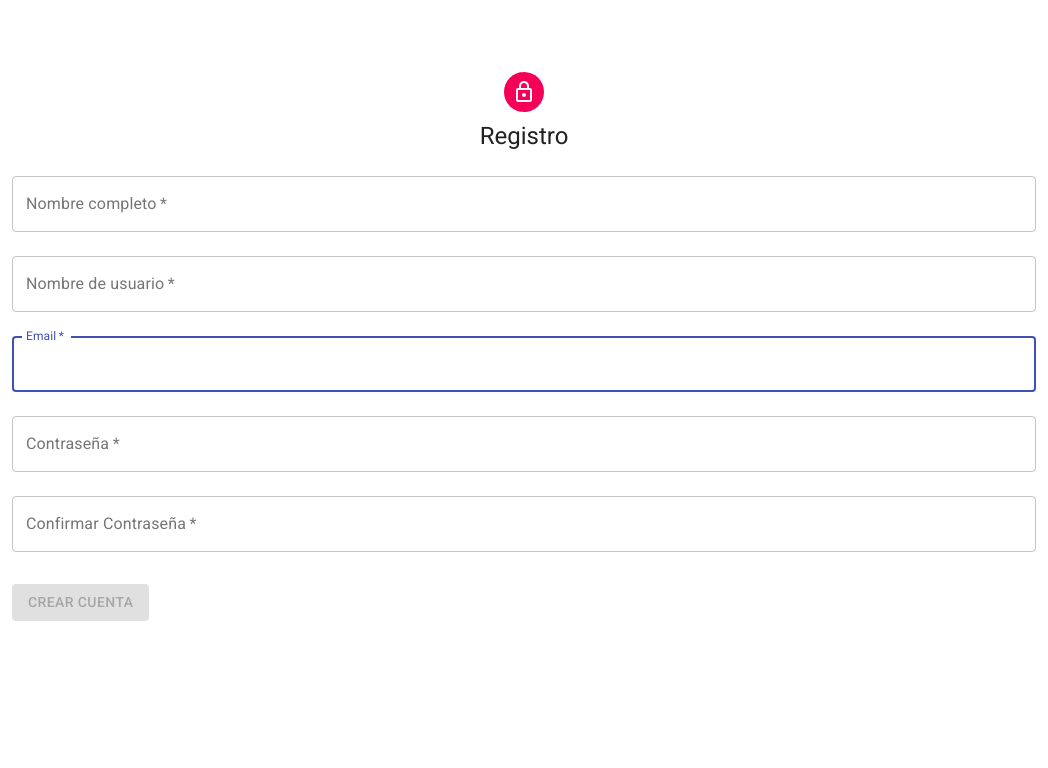
SignUp test › When submitting sign up form › should show password are not the same message if passwords mismatch
The image size is (1048, 768).
Type "Full name" into the field with test id "signup-fullNameField" at (524,204), box [12,176,1036,232]
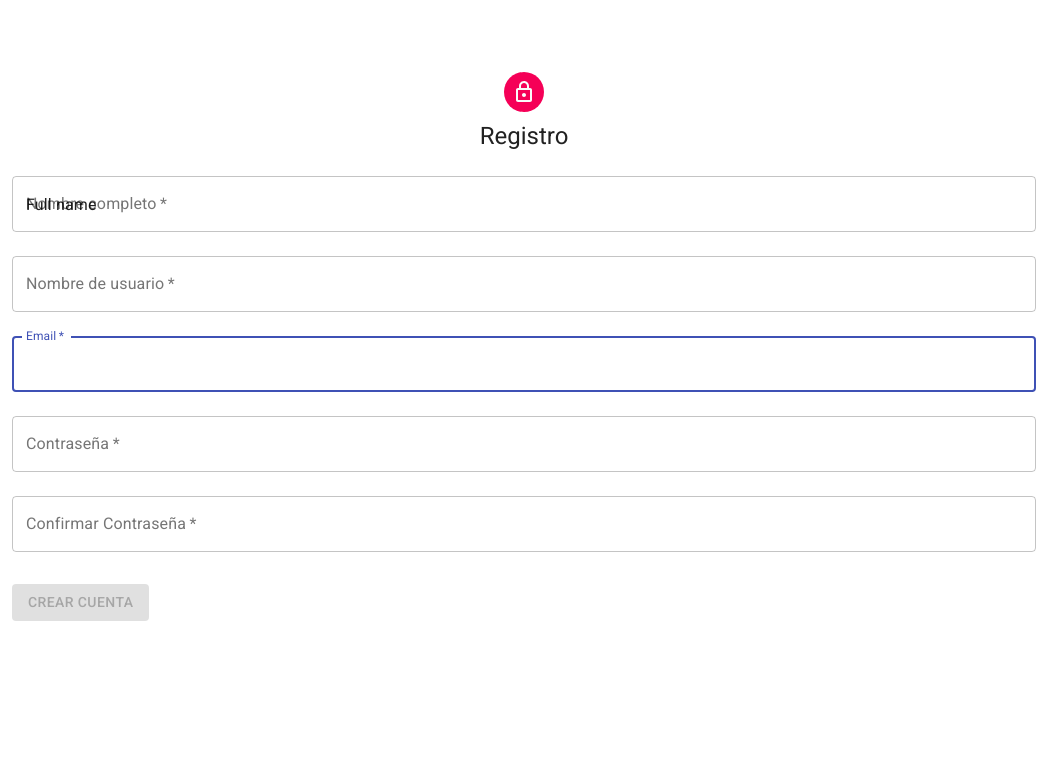
Type "username" into the field with test id "signup-usernameField" at (524,284), box [12,256,1036,312]
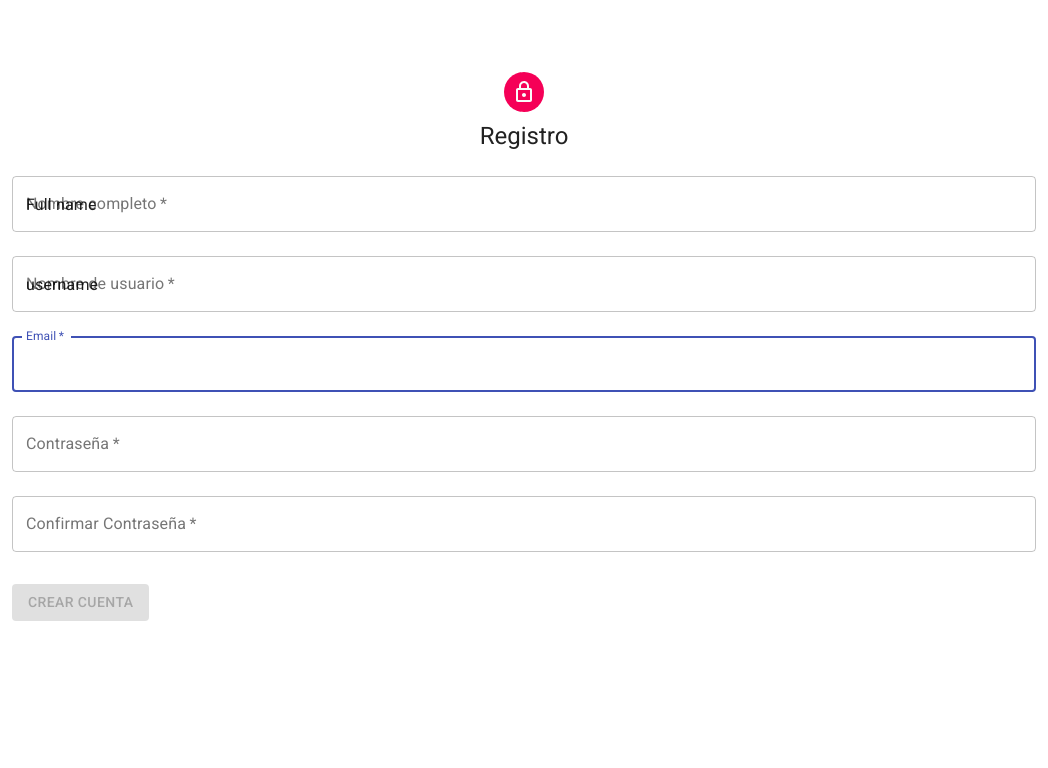
Type "mockEmail@test.com" into the field with test id "signup-emailField" at (524,364), box [12,336,1036,392]
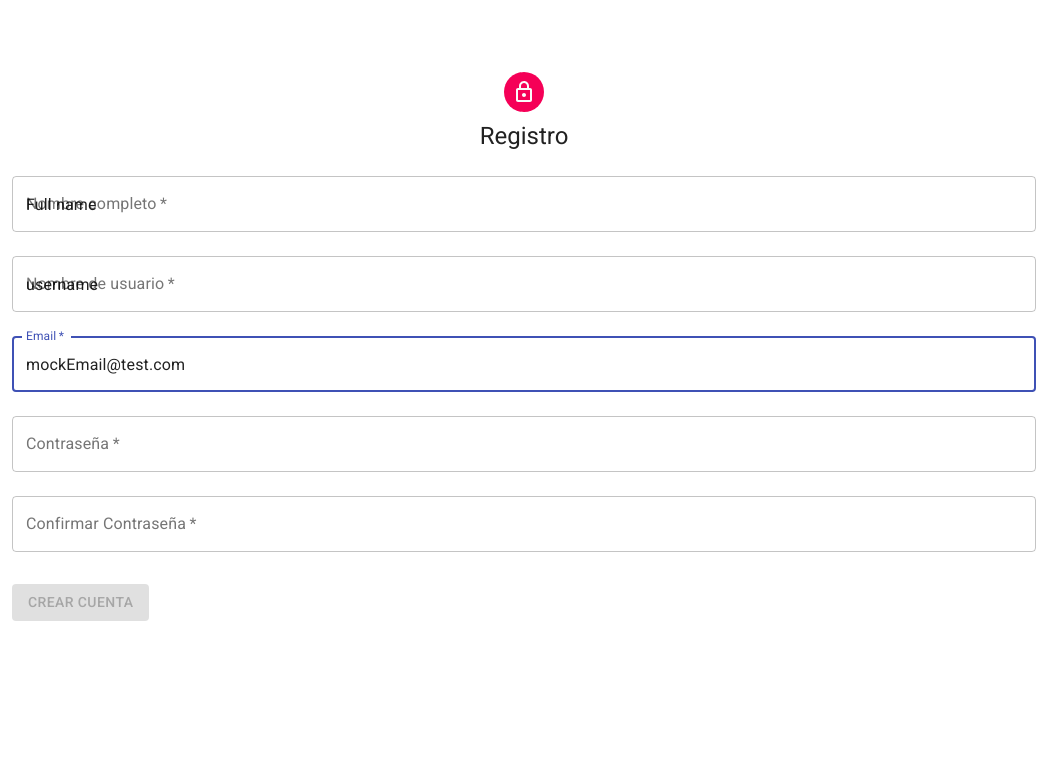
Type "pass1" into the password field with test id "signup-passwordField" at (524,444), box [12,416,1036,472]
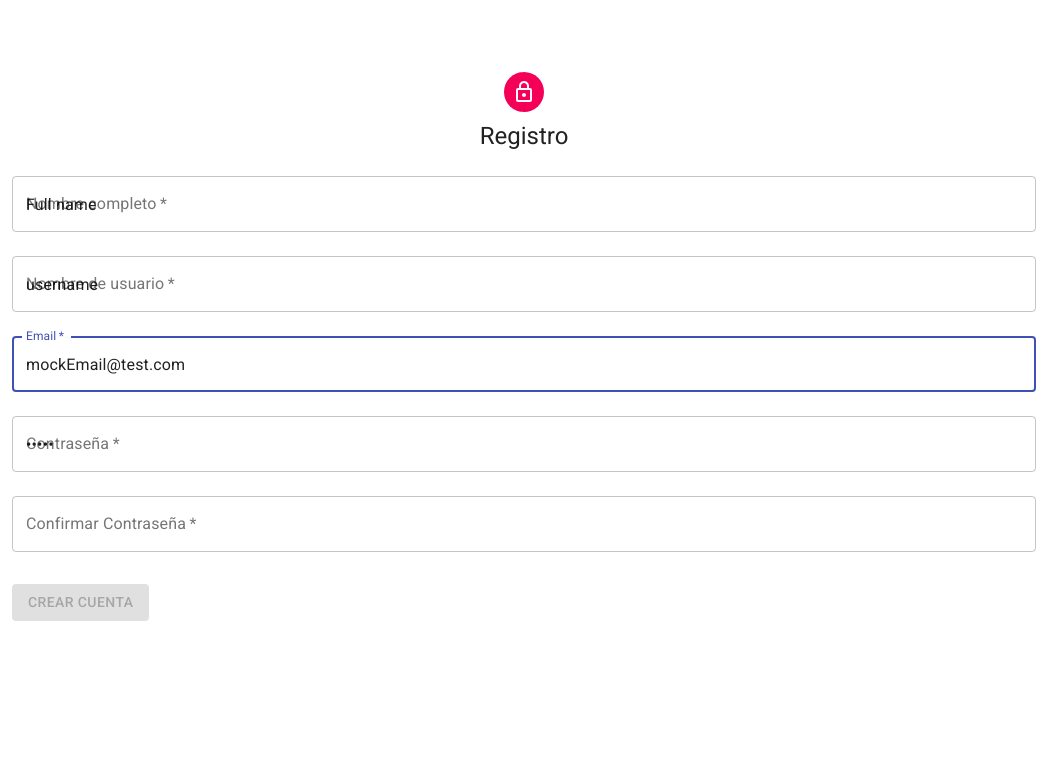
Type "pass2" into the password field with test id "signup-repeatPasswordField" at (524,524), box [12,496,1036,552]
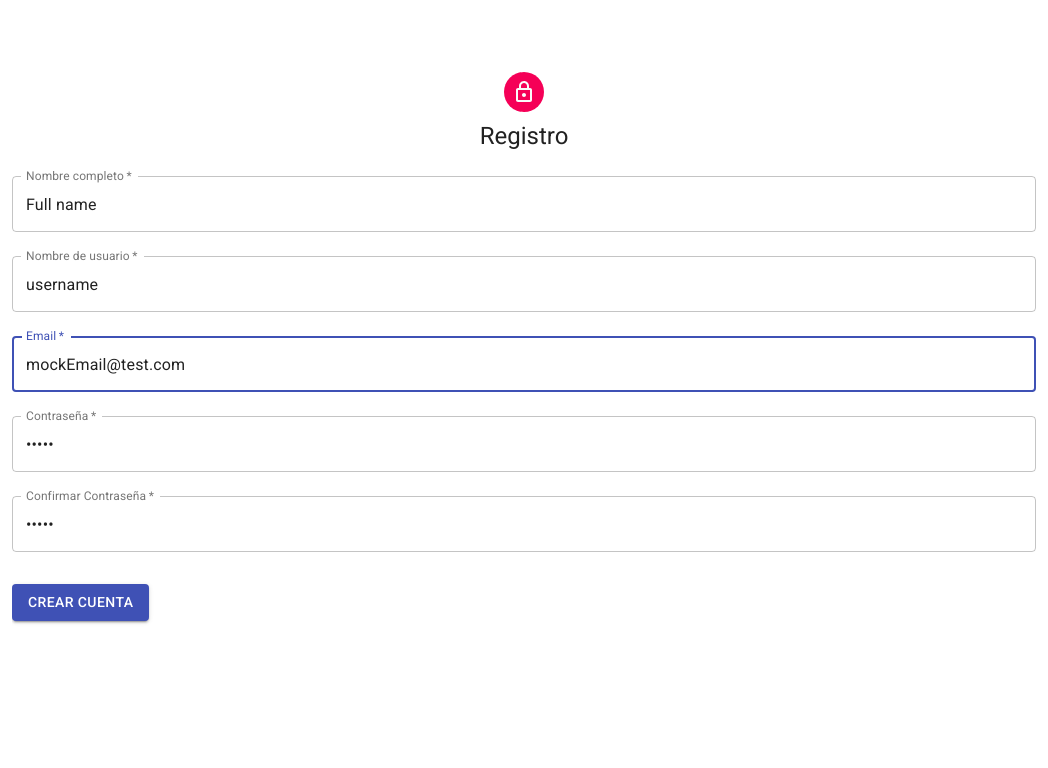
Click the button with test id "signup-submitButton" at (81,602), box [12,584,149,620]
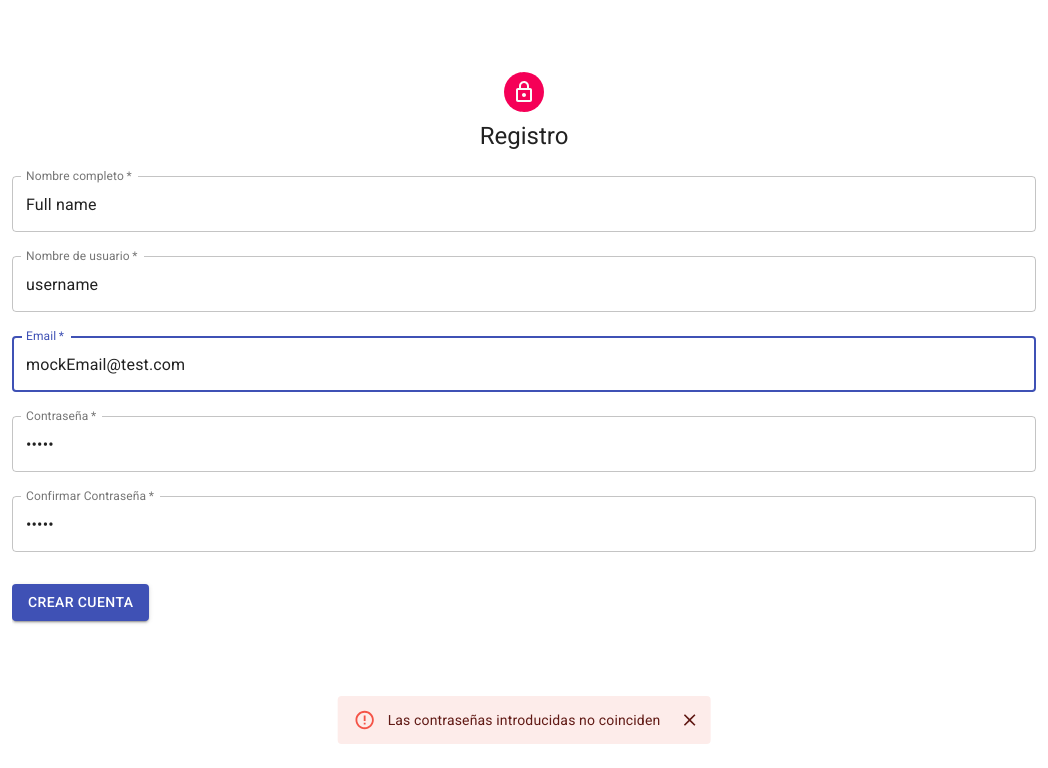
Expected: the element with test id "signup-passwordMismatch" is shown, [338,696,710,744]
